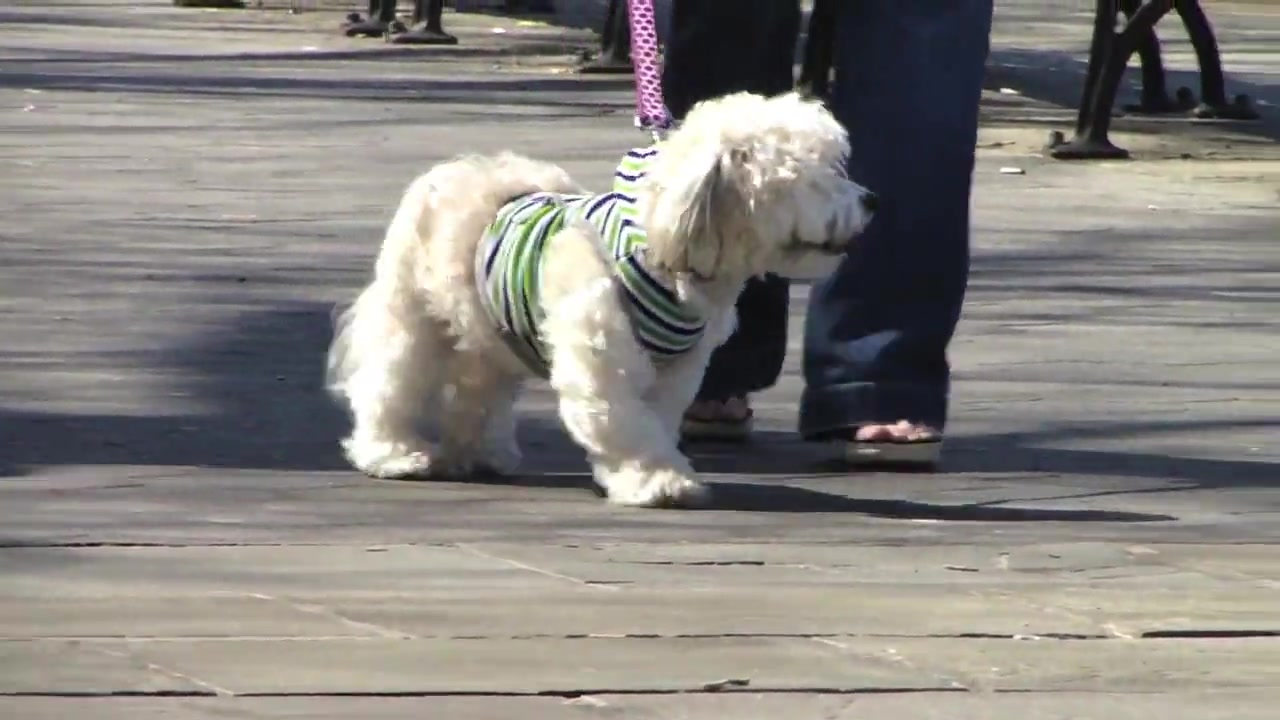dog: (333, 90, 877, 511)
